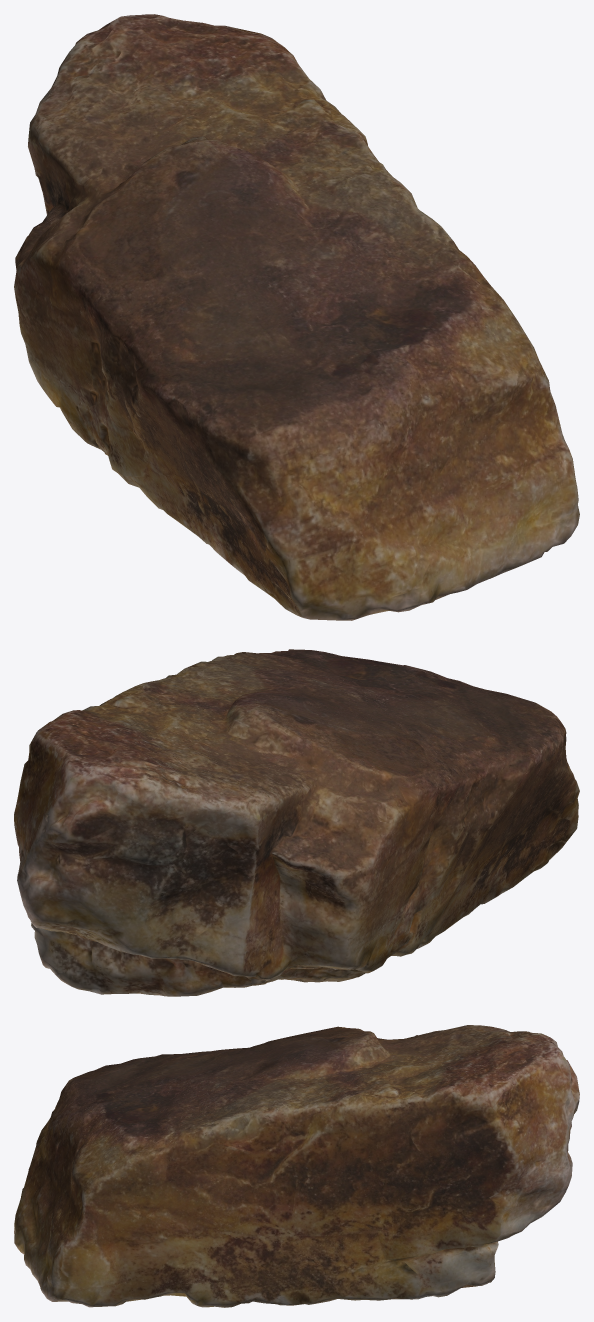
File: bg_rock_07.glb
The picture shows the model from 3 angles, top to bottom: view 1: azimuth 30°, elevation 25°; view 2: azimuth 150°, elevation 25°; view 3: azimuth 270°, elevation 25°; orthographic projection. The views are drawn at different scales.
Visible parts, largest first — view 1: bg_rock_07; view 2: bg_rock_07; view 3: bg_rock_07.
Part boxes in pixels (x1,y1,x2,y2): bg_rock_07: (14, 14, 579, 620); bg_rock_07: (14, 649, 579, 996); bg_rock_07: (14, 1025, 579, 1307).
Bounding box in the file's own units: 1.32 × 1.12 × 2.5.
Materials: 1 (1 with a texture image).
